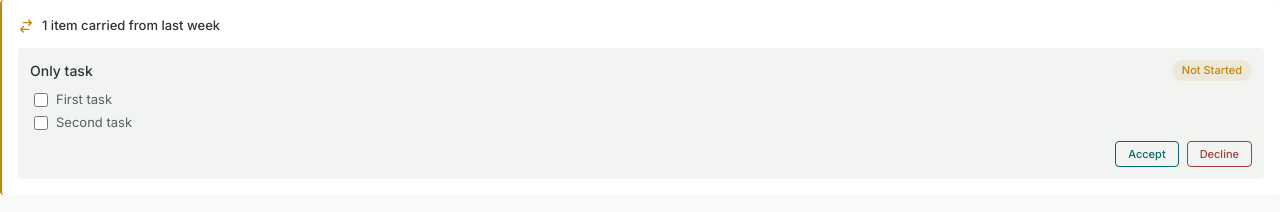
Scenario: CarryForwardPanel › accept interaction › hides the panel entirely when all items are accepted
Click the button "Accept" at (1147, 154), box [1115,141,1179,167]
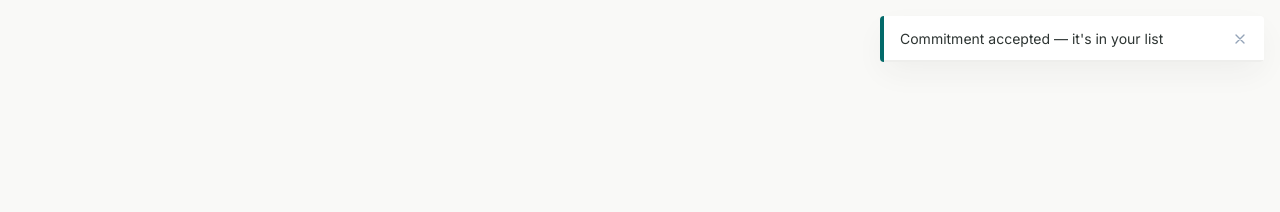
expect the text "carried from last week" is gone: met
